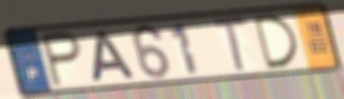1: (170, 21, 202, 76)
6: (131, 22, 172, 81)
A: (91, 29, 139, 83)
D: (251, 13, 301, 71)
P: (39, 29, 85, 90)
T: (210, 14, 250, 75)
